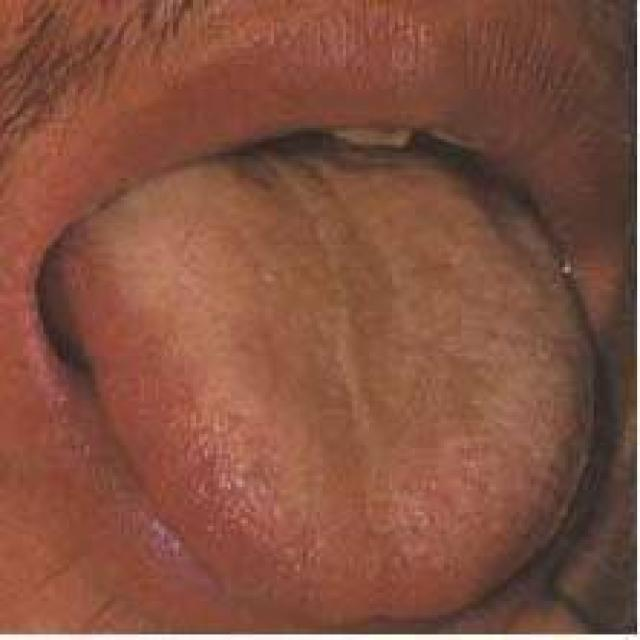tongue: (61, 157, 598, 627)
